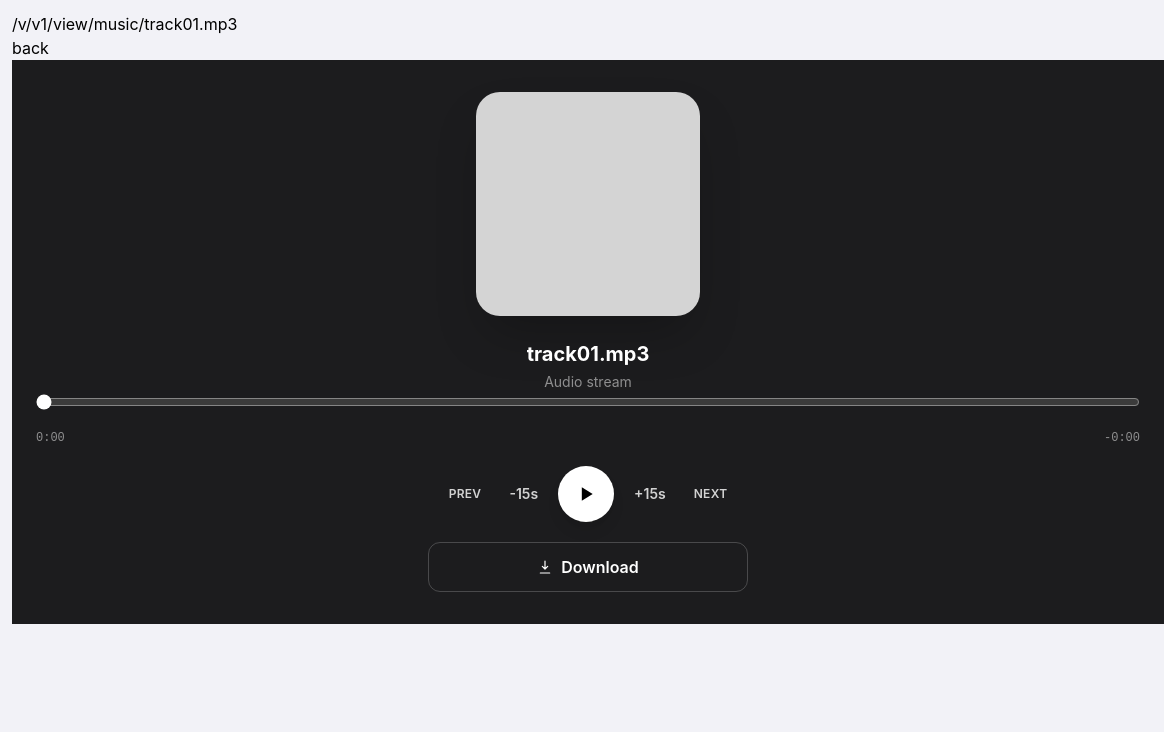
Test: AudioPlayerPage › skips through the folder's audio entries in listing order and wraps at both ends
Click the button with test id "audio-next" at [711, 494], box [686,474,735,514]
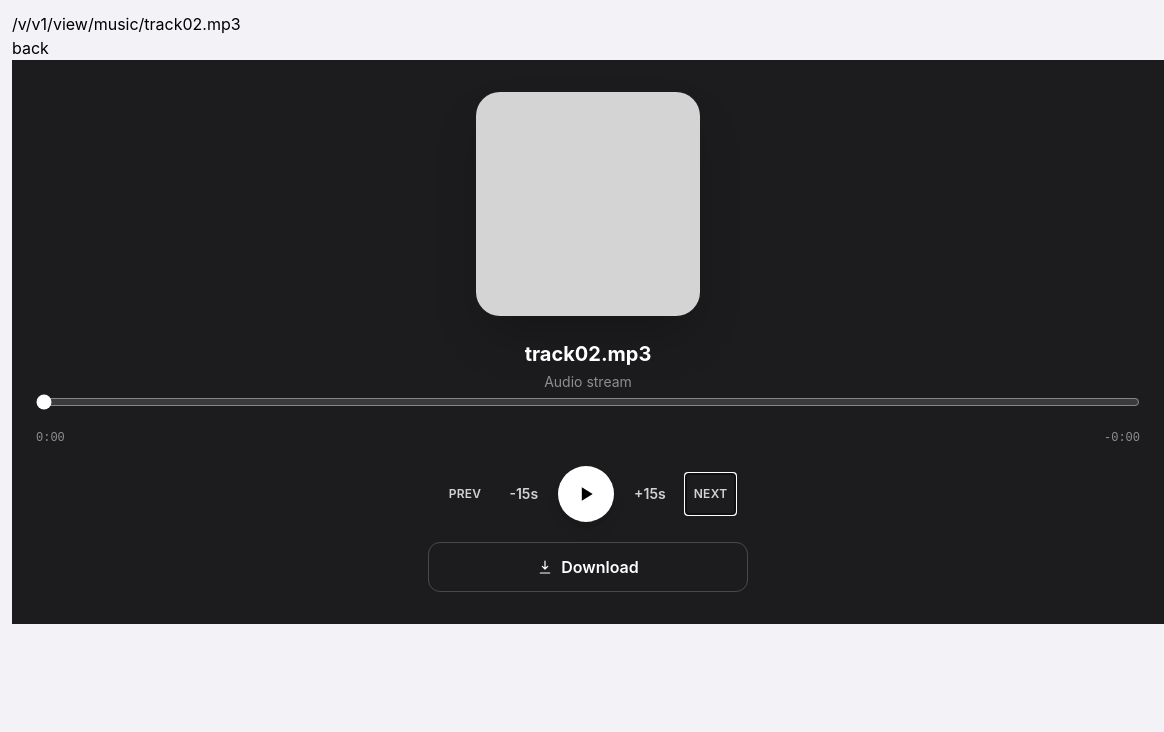
Check: the heading with test id "audio-title" reads "track02.mp3", box [525,342,651,366]
Click the button with test id "audio-next" at [711, 494], box [686,474,735,514]
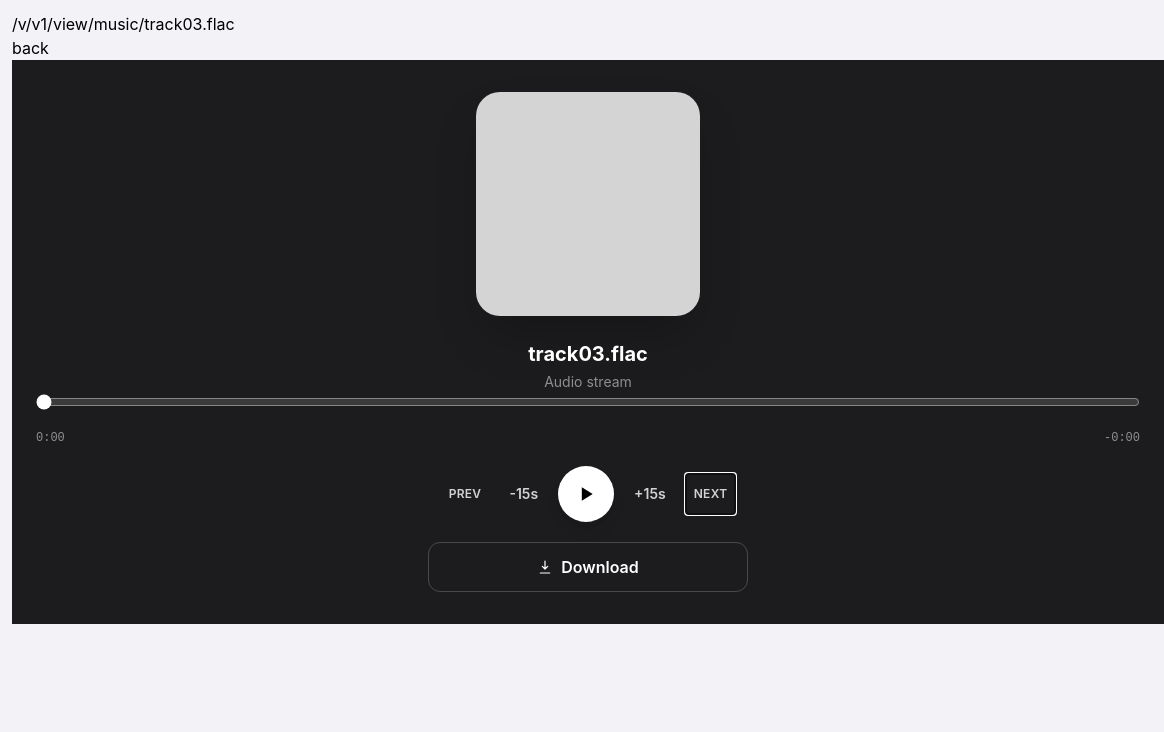
Check: the heading with test id "audio-title" reads "track03.flac", box [528,342,648,366]
Click the button with test id "audio-next" at [711, 494], box [686,474,735,514]
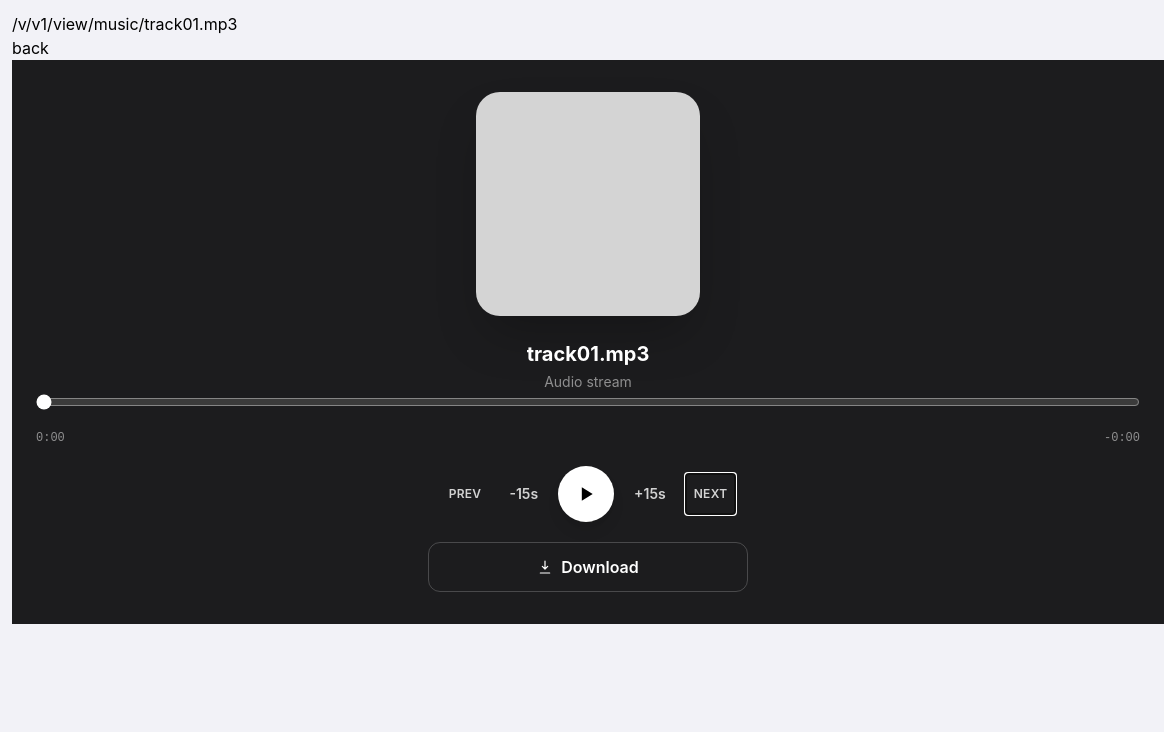
Check: the heading with test id "audio-title" reads "track01.mp3", box [527,342,649,366]
Click the button with test id "audio-prev" at [465, 494], box [441,474,489,514]
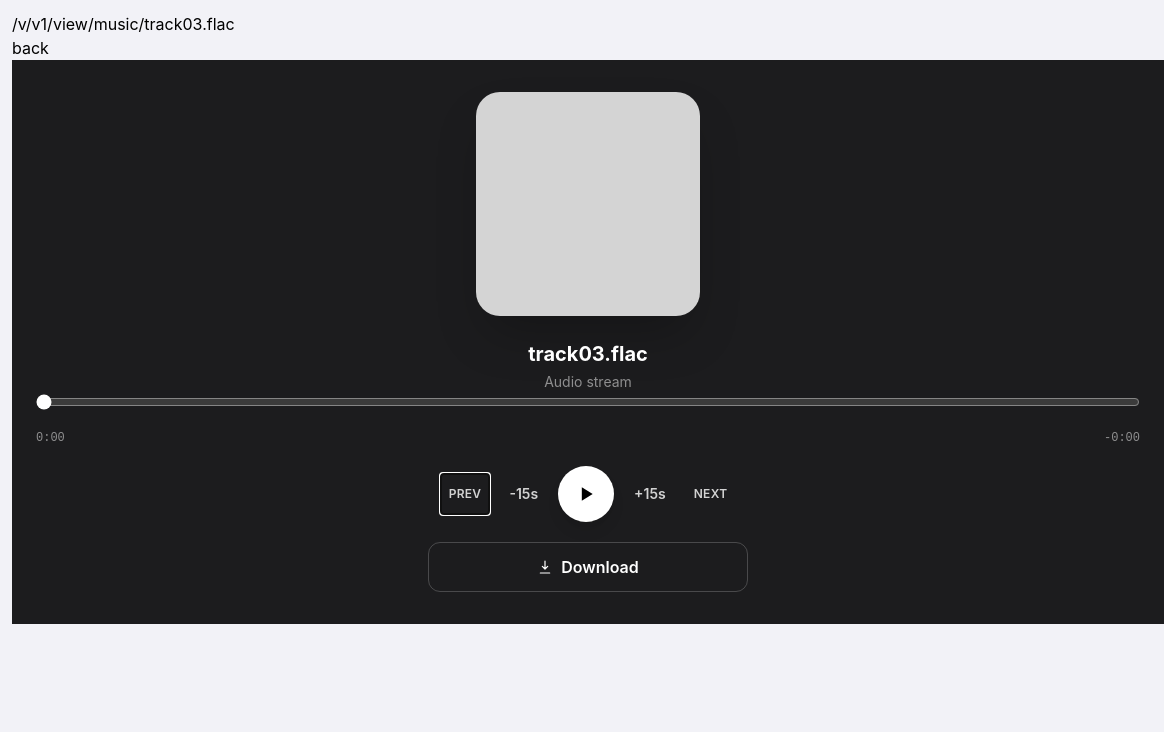
Check: the heading with test id "audio-title" reads "track03.flac", box [528,342,648,366]
